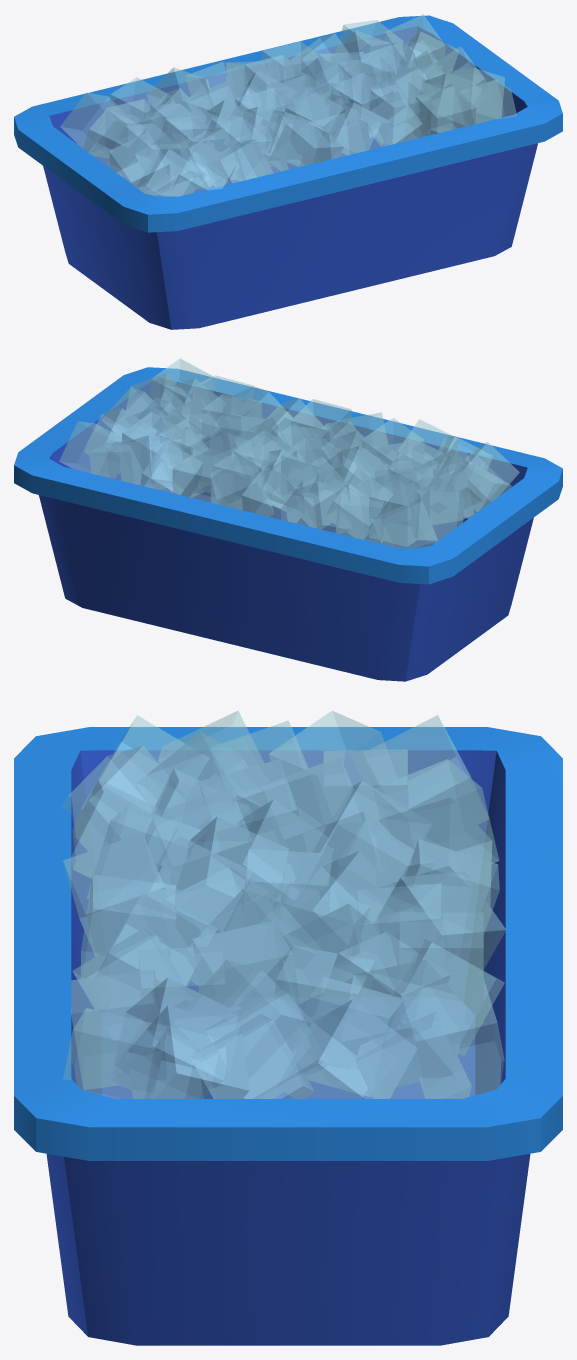
File: IceTray2_geo.fbx
The picture shows the model from 3 angles, top to bottom: view 1: azimuth 30°, elevation 25°; view 2: azimuth 150°, elevation 25°; view 3: azimuth 270°, elevation 25°; orthographic projection. The views are drawn at different scales.
Visible parts, largest first — view 1: IceTray2_geo; view 2: IceTray2_geo; view 3: IceTray2_geo.
Part boxes in pixels (x1,y1,x2,y2): IceTray2_geo: (14, 14, 562, 329); IceTray2_geo: (14, 358, 562, 681); IceTray2_geo: (14, 710, 562, 1345).
Bounding box in the file's own units: 0.9393 × 0.5445 × 0.3491.
